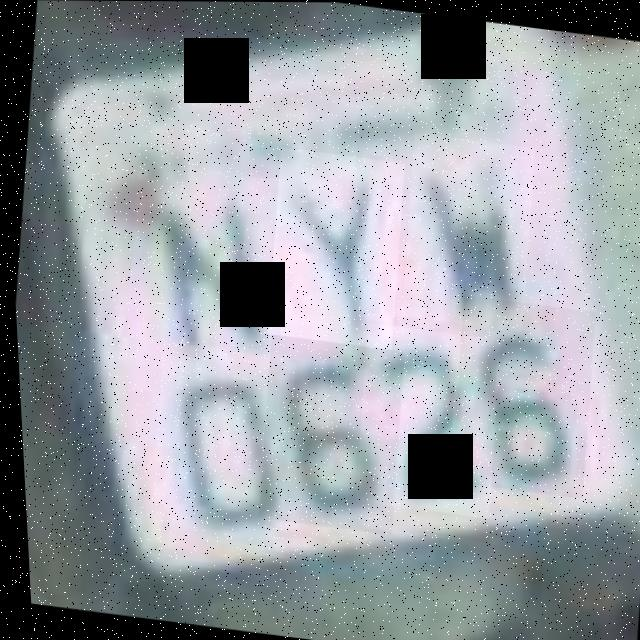0: (135, 339, 314, 552)
2: (343, 321, 504, 517)
6: (437, 294, 600, 498), (246, 333, 408, 534)
N: (111, 160, 288, 381)
W: (390, 132, 540, 331)
Y: (256, 146, 410, 349)
